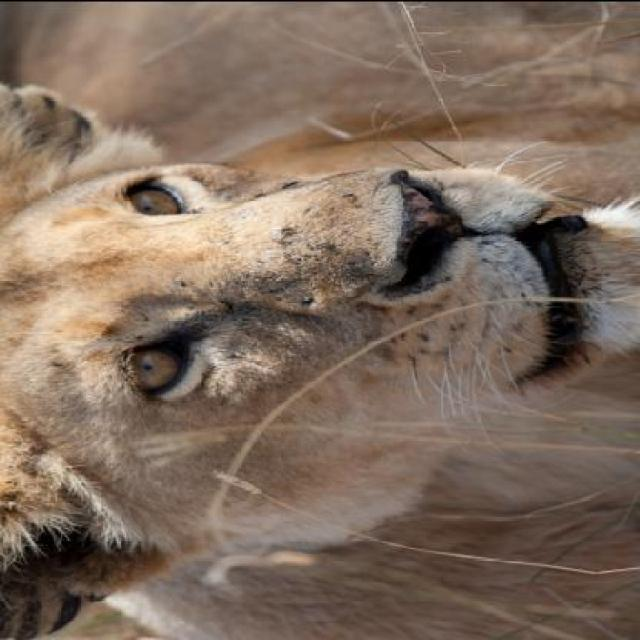Lion: (7, 60, 638, 638)
